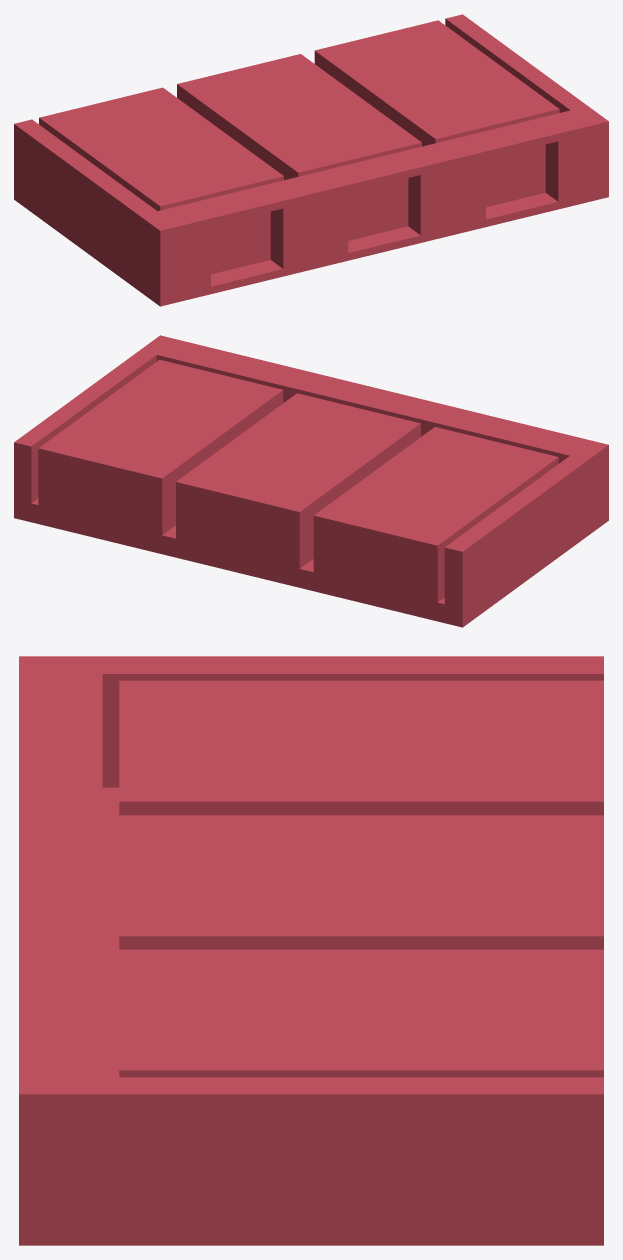
Rendered from kalıpdisi.glb.
3 renders of one model, top to bottom at view 1: azimuth 30°, elevation 25°; view 2: azimuth 150°, elevation 25°; view 3: azimuth 270°, elevation 25°, orthographic. The views are drawn at different scales.
Visible parts, largest first — view 1: Mesh_Mesh_head_geo.001_lambert2SG.001; view 2: Mesh_Mesh_head_geo.001_lambert2SG.001; view 3: Mesh_Mesh_head_geo.001_lambert2SG.001.
Boxes of the visible parts, x1,y1,x2,y2 form: Mesh_Mesh_head_geo.001_lambert2SG.001: (14, 14, 608, 306); Mesh_Mesh_head_geo.001_lambert2SG.001: (14, 335, 608, 627); Mesh_Mesh_head_geo.001_lambert2SG.001: (19, 656, 603, 1245).
Bounding box in the file's own units: 0.124 × 0.02 × 0.07.
